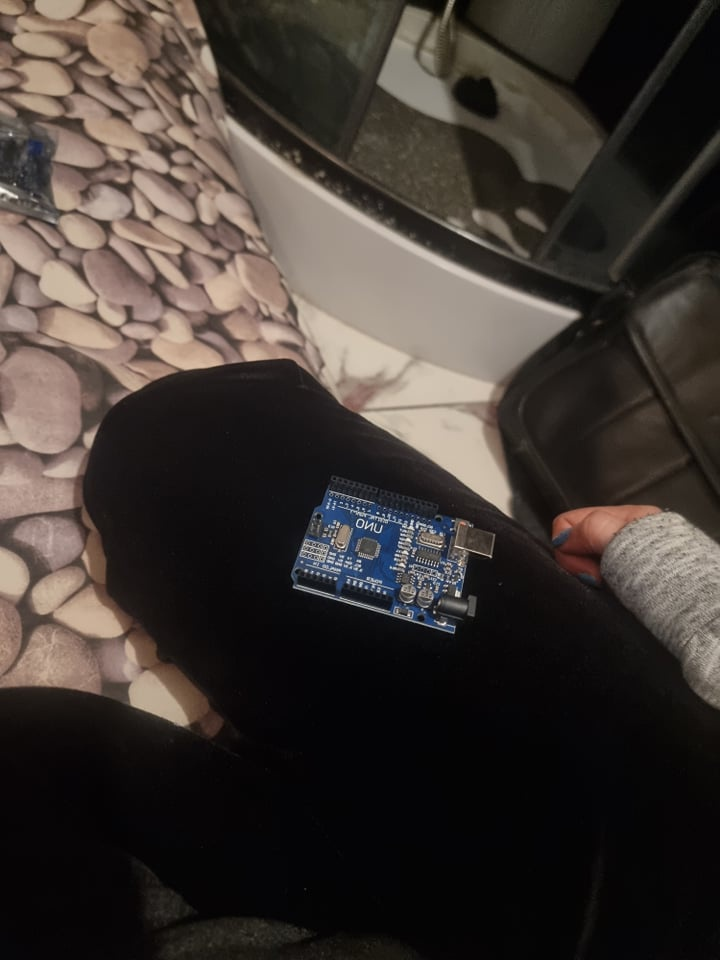UNO R3: (281, 474, 496, 638)
